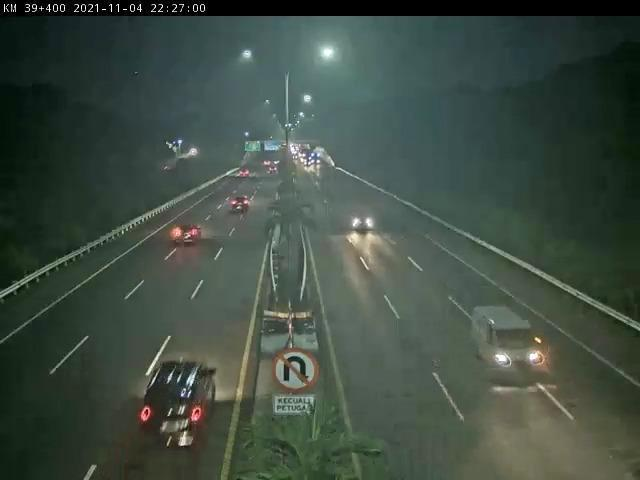car: (144, 362, 219, 449), (469, 305, 547, 374), (171, 224, 204, 247), (349, 205, 375, 231), (230, 195, 254, 216)
